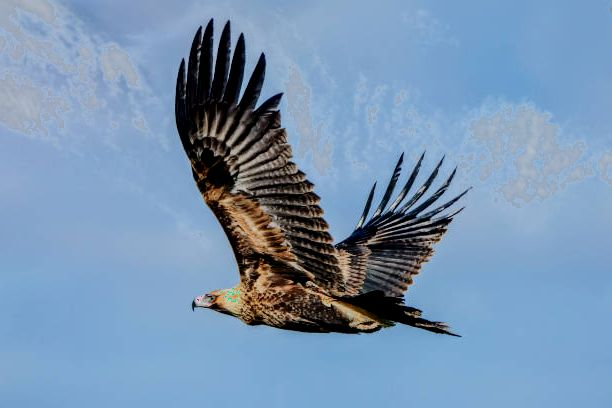Bird: (169, 12, 464, 342)
